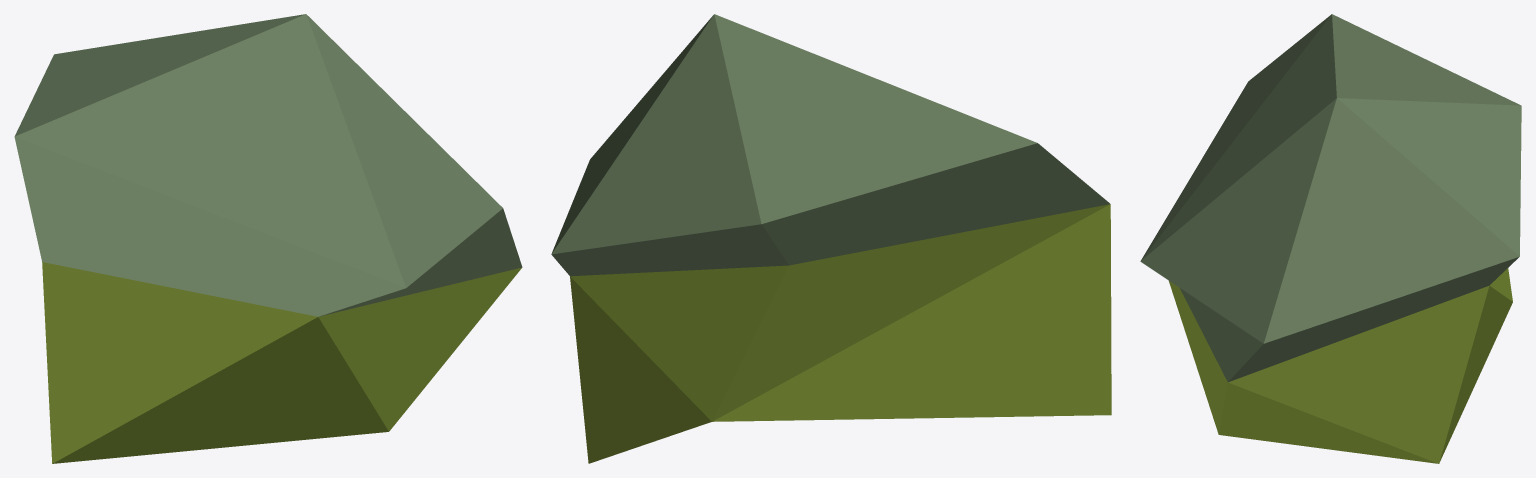
The model's file is Gib_1.fbx.
3 renders of one model, left to right at view 1: azimuth 30°, elevation 25°; view 2: azimuth 150°, elevation 25°; view 3: azimuth 270°, elevation 25°, orthographic. The views are drawn at different scales.
Visible parts, largest first — view 1: pPlatonic2; view 2: pPlatonic2; view 3: pPlatonic2.
Boxes of the visible parts, box(x1,y1,x2,y2) form: pPlatonic2: box(14, 14, 522, 463); pPlatonic2: box(551, 14, 1111, 463); pPlatonic2: box(1140, 14, 1521, 463).
Size of the model in its own units: 18.98 by 14.88 by 15.08.
